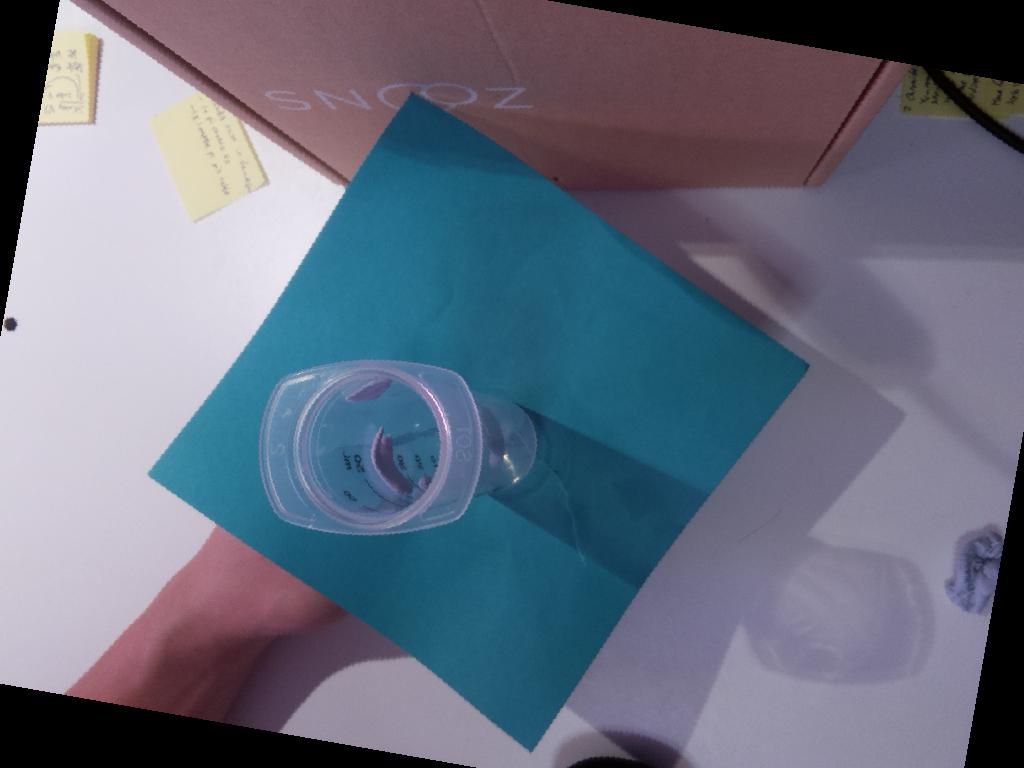dirty: (259, 359, 483, 537)
